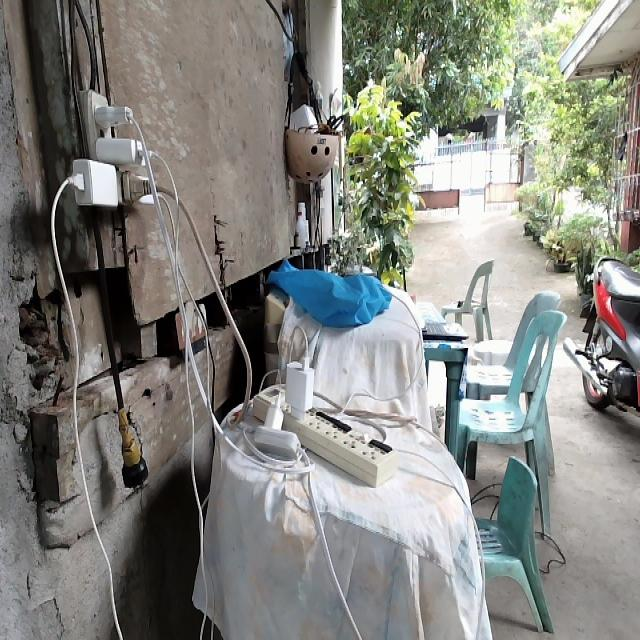-: (60, 87, 161, 205)
